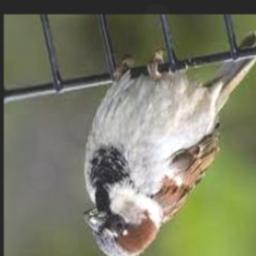Sparrow: (83, 30, 256, 256)
